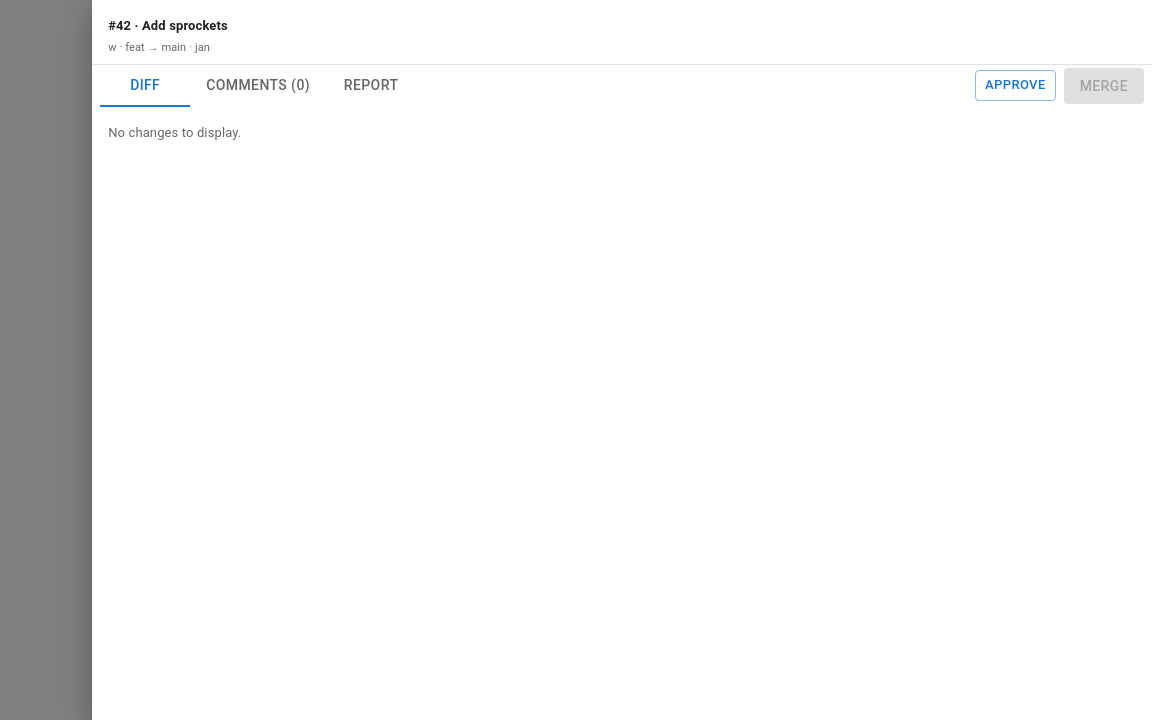
Test: PrInspectorDrawer approve/merge action row › shows Approve on someone else's PR and re-fetches reviewState on success
Check: the button "Merge" is disabled, box [1064,68,1144,104]
Click the button "Approve".
click(1015, 86)  # box [975,70,1056,101]
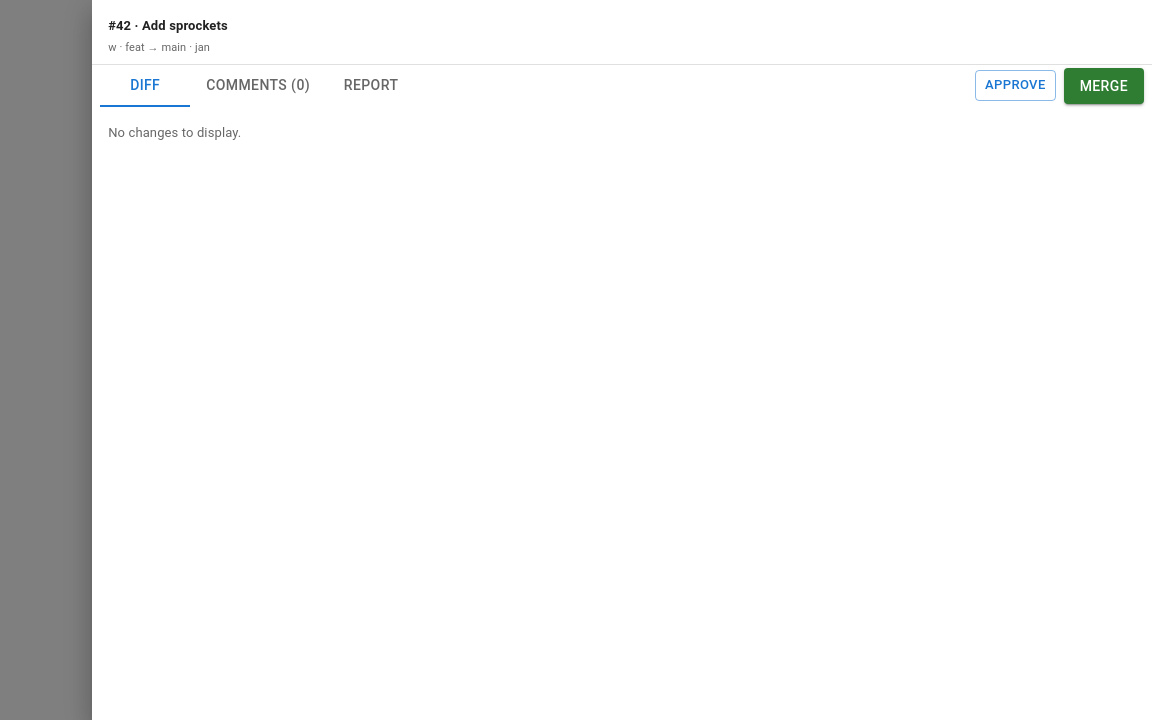
Check: the button "Merge" is enabled, box [1064,68,1144,104]
